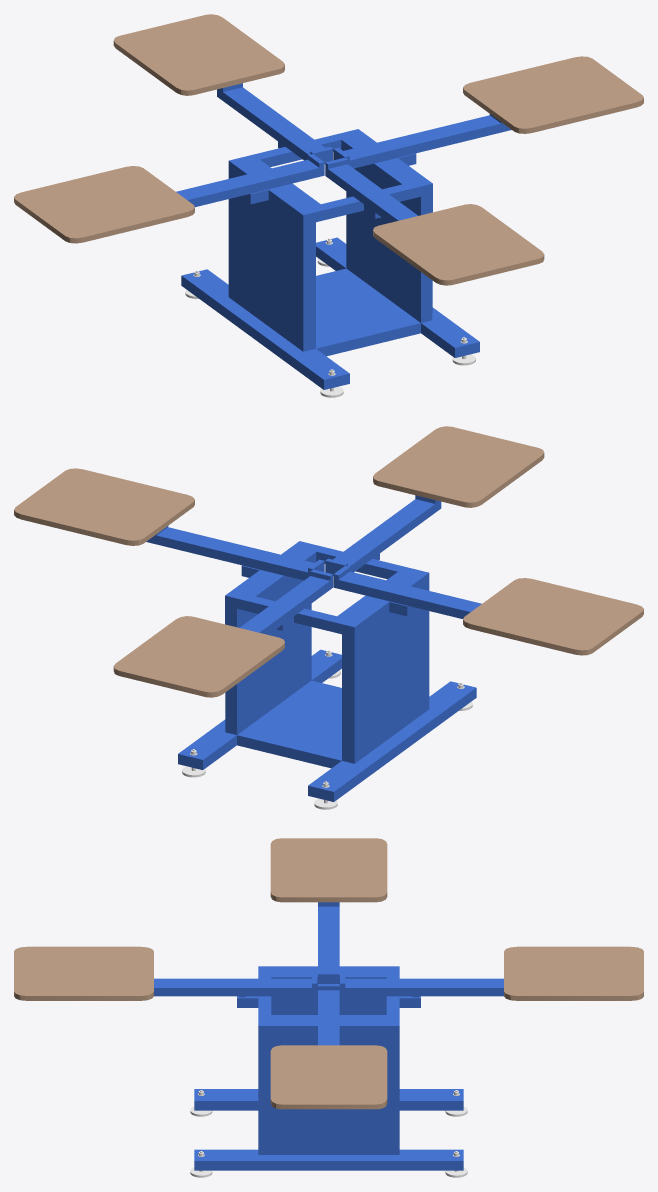
File: Estructura base.fbx
3 renders of one model, top to bottom at view 1: azimuth 30°, elevation 25°; view 2: azimuth 150°, elevation 25°; view 3: azimuth 270°, elevation 25°, orthographic. The views are drawn at different scales.
Parts seen in each view (by area): view 1: Estructura base; view 2: Estructura base; view 3: Estructura base.
Part boxes in pixels (x1,y1,x2,y2): Estructura base: (14,14,643,397); Estructura base: (14,426,643,809); Estructura base: (14,838,643,1177).
Size of the model in its own units: 3.95 by 1.18 by 3.95.
